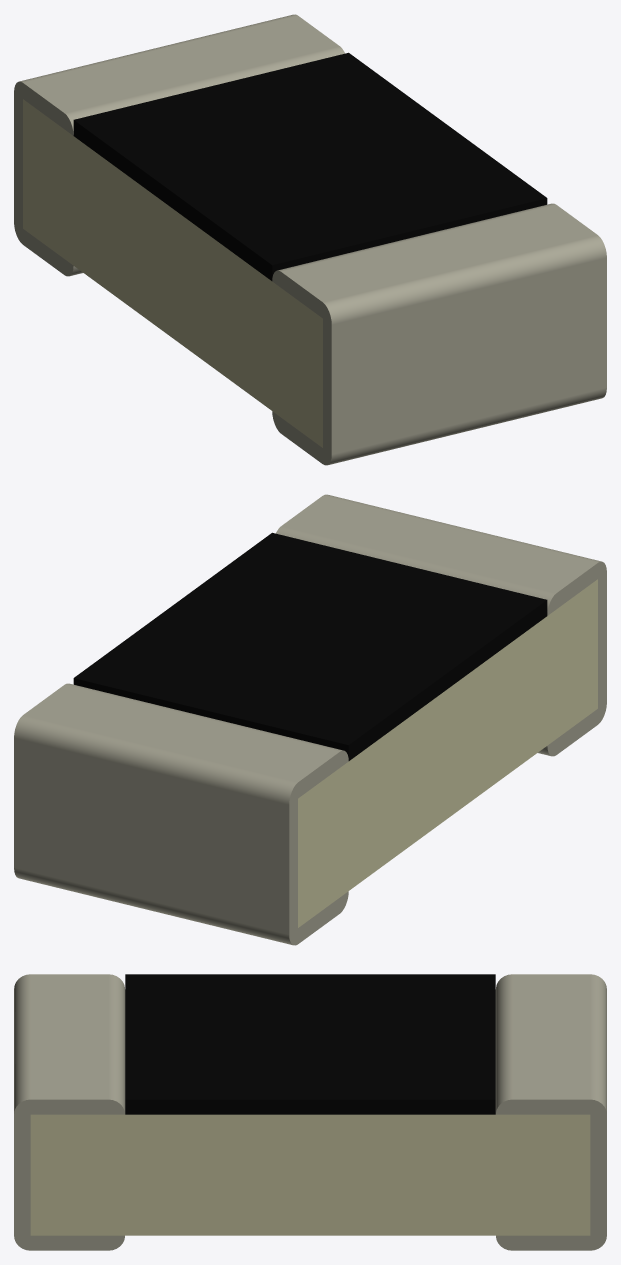
File: R62_R_0603_1608Metric.obj
3 renders of one model, top to bottom at view 1: azimuth 30°, elevation 25°; view 2: azimuth 150°, elevation 25°; view 3: azimuth 270°, elevation 25°, orthographic. The views are drawn at different scales.
Parts seen in each view (by area): view 1: R62; view 2: R62; view 3: R62.
Boxes of the visible parts, <box> form: R62: <box>14,14,606,465</box>; R62: <box>14,494,606,945</box>; R62: <box>14,974,606,1250</box>.
Size of the model in its own units: 0.008 by 0.0045 by 0.016.
